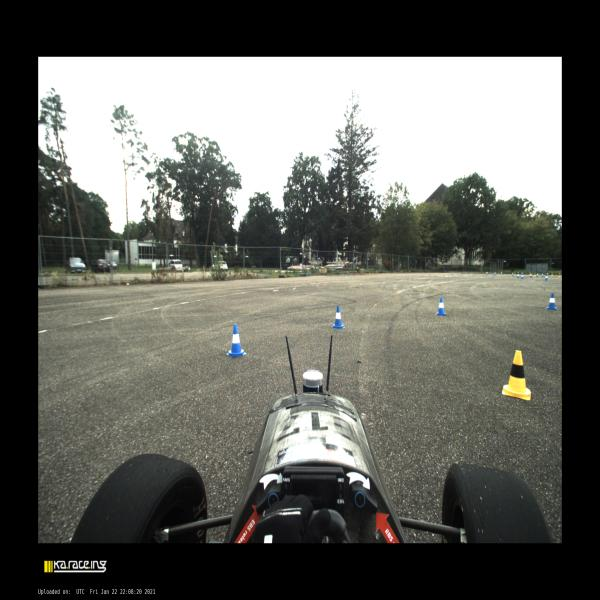blue_cone: (226, 324, 246, 358), (332, 306, 345, 329), (545, 293, 559, 310), (435, 297, 446, 316), (545, 274, 548, 281), (520, 274, 524, 279), (536, 272, 539, 278), (511, 272, 514, 276), (530, 273, 532, 278), (517, 273, 519, 278), (542, 273, 544, 277)
yellow_cone: (502, 350, 531, 400), (533, 272, 536, 276), (558, 273, 560, 277), (551, 272, 553, 276)
